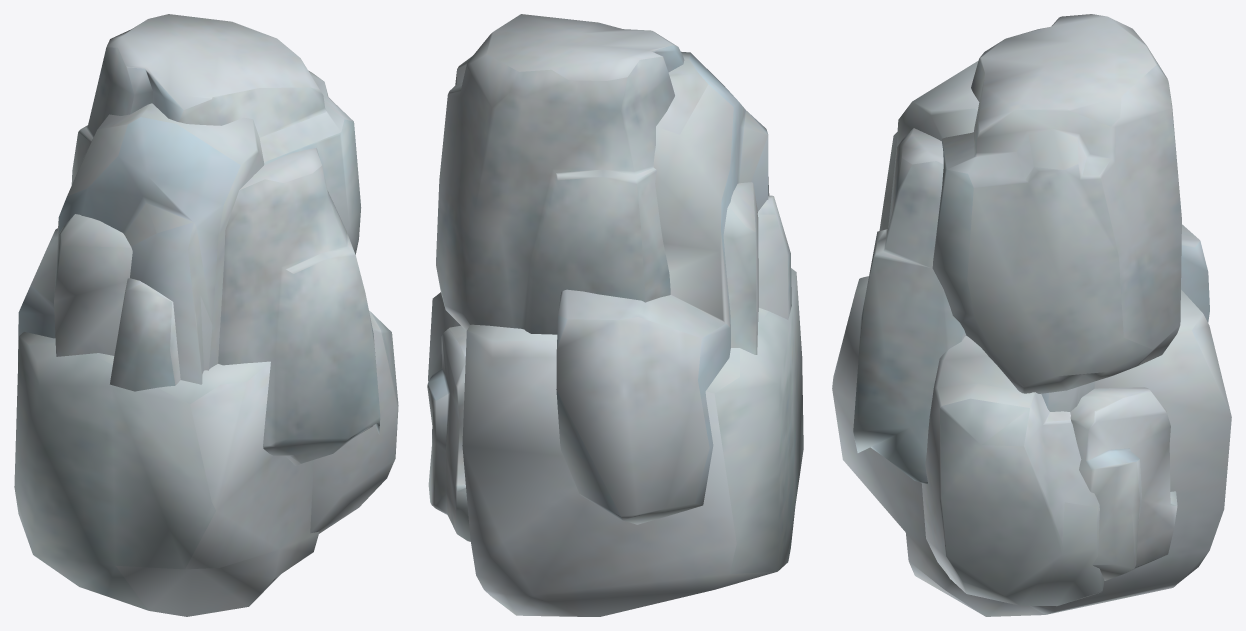
Rendered from P_RockSpire_RockClumpB09.obj.
The picture shows the model from 3 angles, left to right: view 1: azimuth 30°, elevation 25°; view 2: azimuth 150°, elevation 25°; view 3: azimuth 270°, elevation 25°; orthographic projection. The views are drawn at different scales.
Size of the model in its own units: 17.46 by 26.04 by 17.29.
